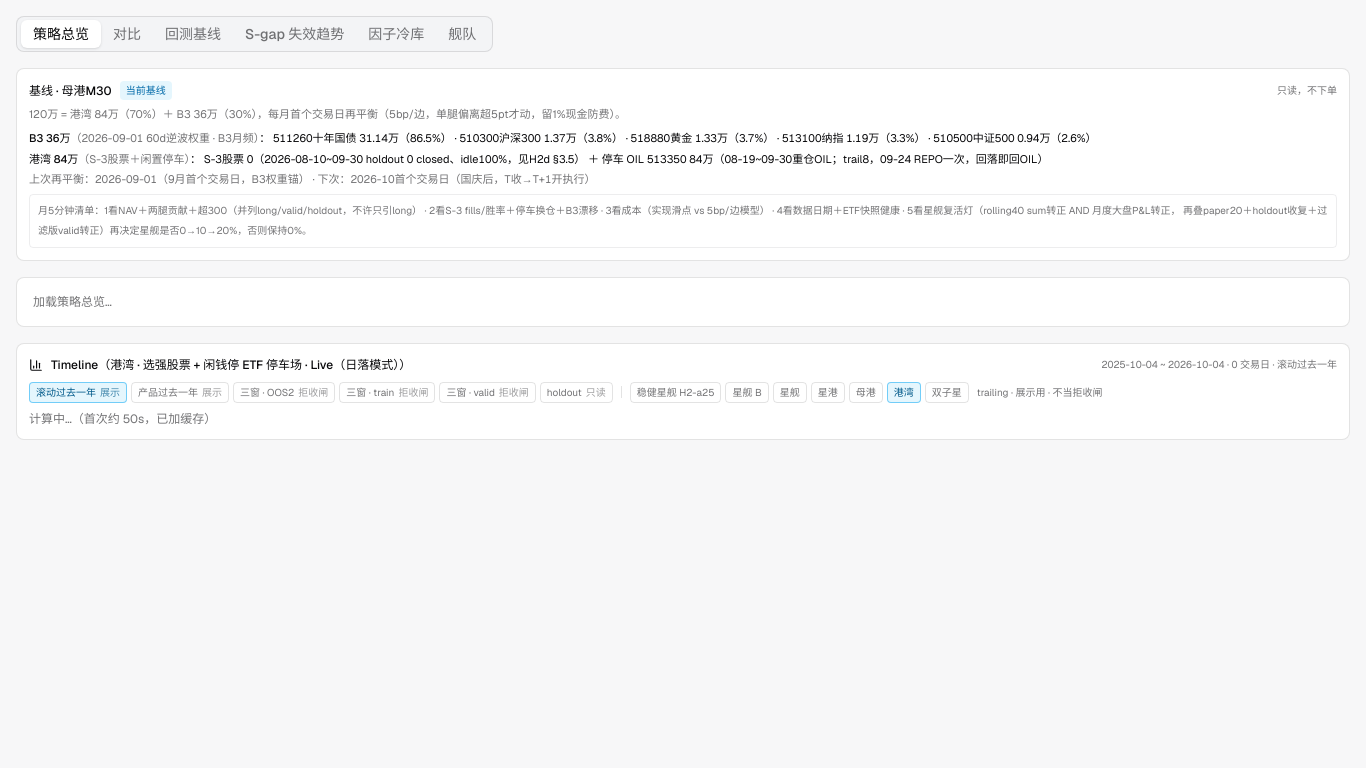
Test: BacktestPage › shows the S-3 conclusion board with baselines, long window and params
The image size is (1366, 768).
Click the button "回测基线".
click(193, 34)  # box x1=153 y1=20 x2=233 y2=48
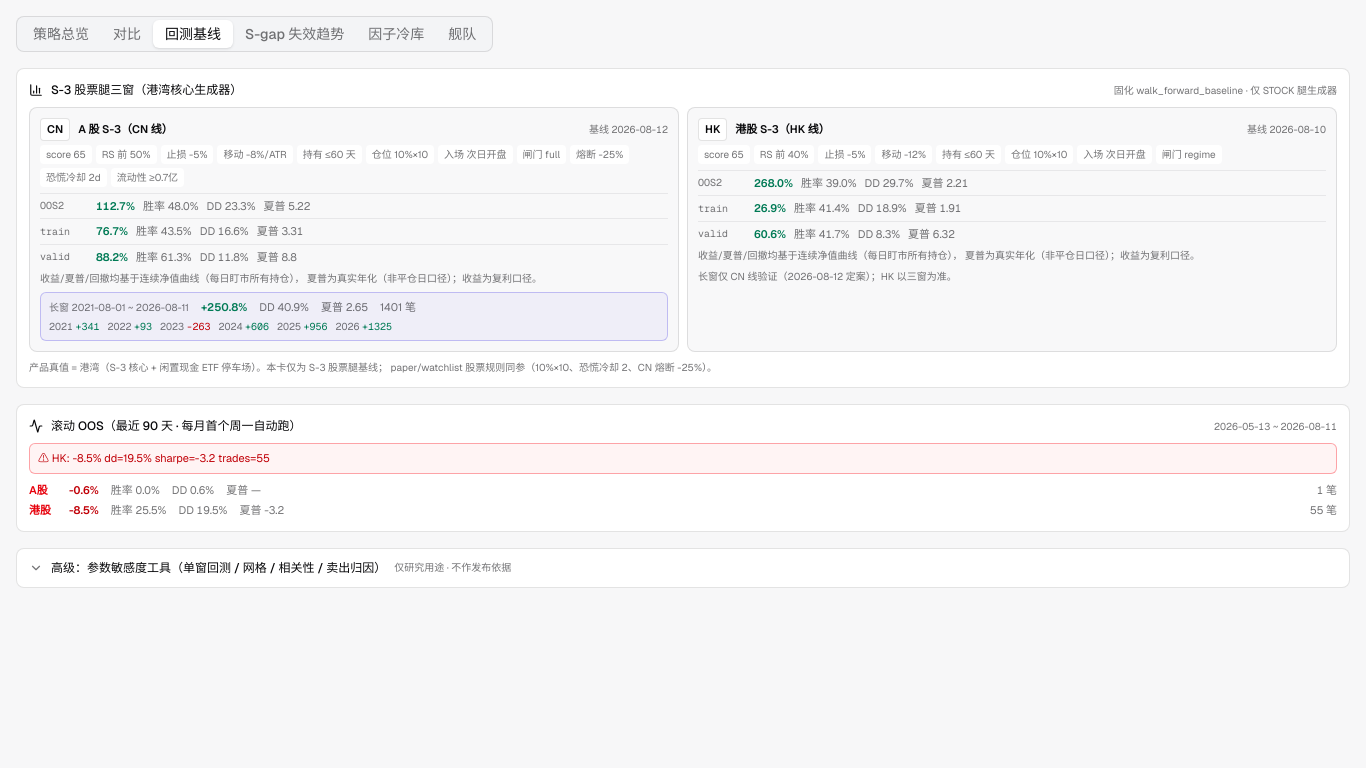
Check: the text "S-3 股票腿三窗（港湾核心生成器） 固化 walk_forward_baseline · 仅 STOCK 腿生成器" is shown, box x1=29 y1=81 x2=1337 y2=99
Check: the text "112.7%" is shown, box x1=96 y1=198 x2=135 y2=214
Check: the text "88.2%" is shown, box x1=96 y1=248 x2=128 y2=265
